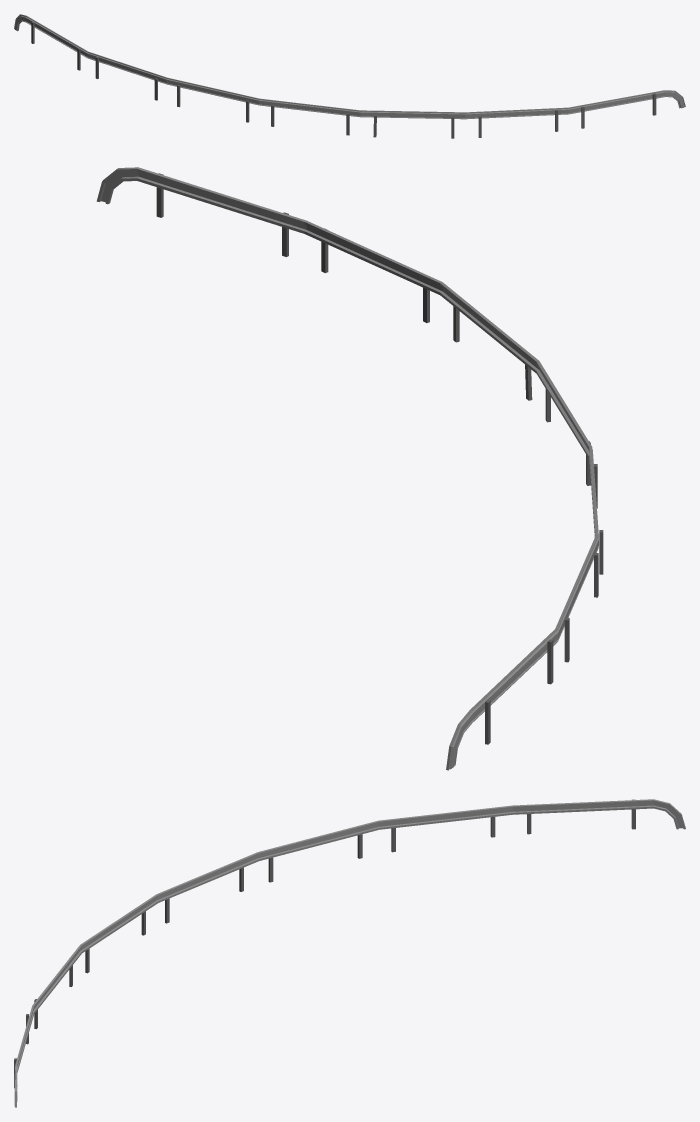
The model's file is BarriersTurn90.fbx.
3 views of the same model, one above another, from view 1: azimuth 30°, elevation 25°; view 2: azimuth 150°, elevation 25°; view 3: azimuth 270°, elevation 25° (orthographic). The views are drawn at different scales.
Visible parts, largest first — view 1: barriersSmall.018; view 2: barriersSmall.018; view 3: barriersSmall.018.
Part boxes in pixels (box(x1,y1,x2,y2)): barriersSmall.018: box(14, 14, 685, 138); barriersSmall.018: box(96, 167, 603, 770); barriersSmall.018: box(14, 799, 685, 1107).
Size of the model in its own units: 3146 by 178 by 3188.
1 material, 1 textured.
